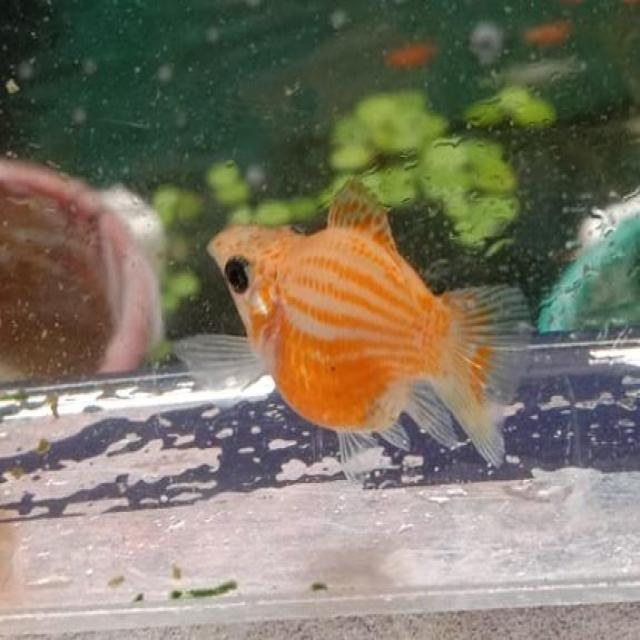PlatyFish: (201, 170, 549, 508)
